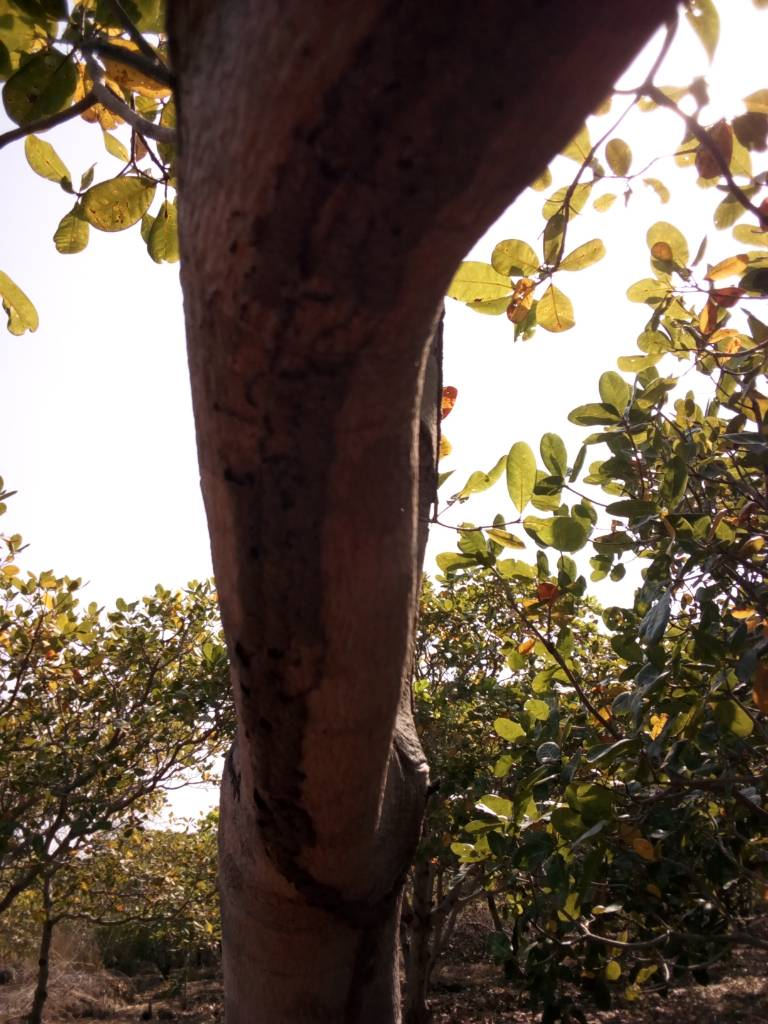Termites: (247, 321, 346, 919)
